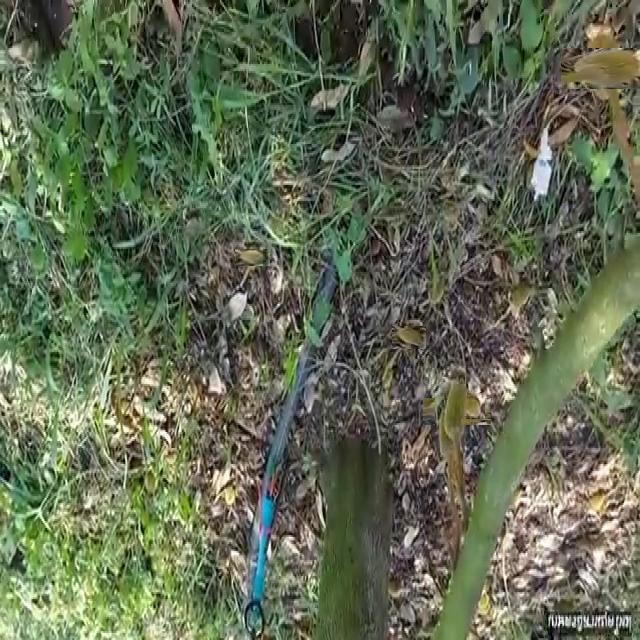durian: (572, 36, 638, 102), (433, 388, 481, 436), (435, 398, 461, 468), (509, 279, 533, 315), (395, 323, 423, 353), (240, 244, 266, 271), (460, 392, 486, 419)
